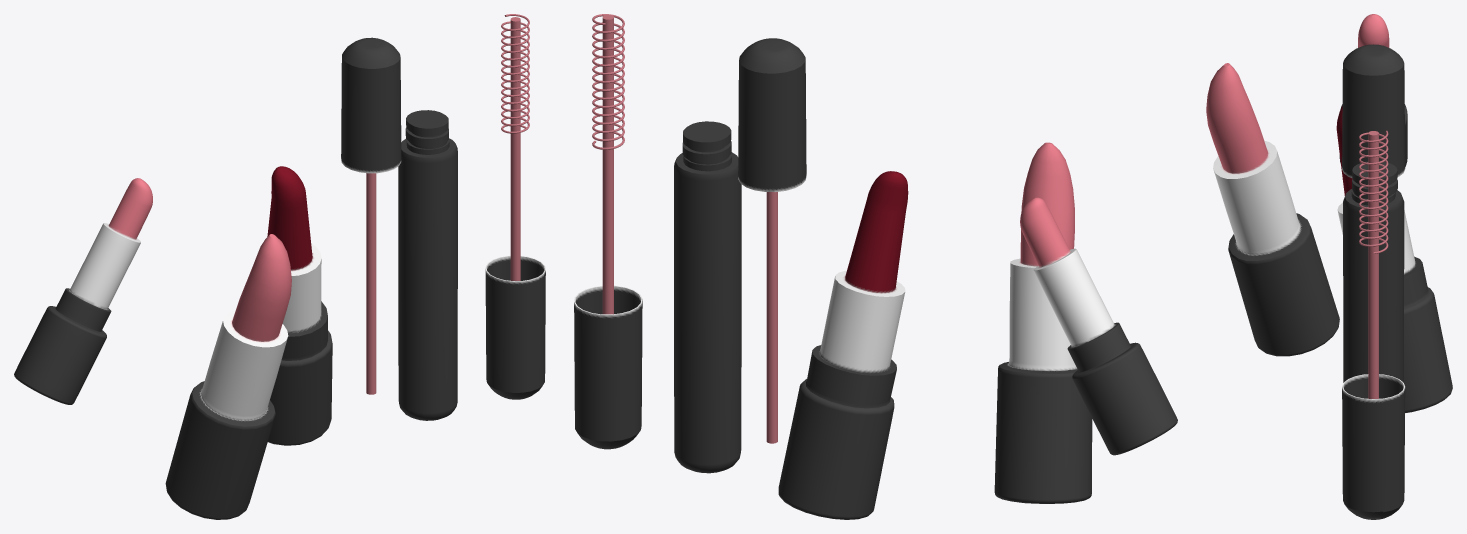
File: Labial y Pestañina.fbx
3 views of the same model, side by side, from view 1: azimuth 30°, elevation 25°; view 2: azimuth 150°, elevation 25°; view 3: azimuth 270°, elevation 25° (orthographic). The views are drawn at different scales.
Parts seen in each view (by area): view 1: Cometics; view 2: Cometics; view 3: Cometics.
Boxes of the visible parts, x1=… form: Cometics: x1=14, y1=14, x2=545, y2=519; Cometics: x1=574, y1=14, x2=1177, y2=519; Cometics: x1=1206, y1=14, x2=1452, y2=519.
Bounding box in the file's own units: 0.1144 × 0.0807 × 0.046.
